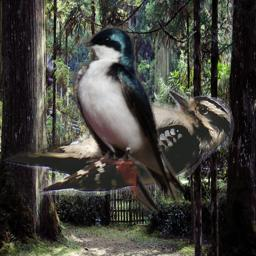Swallow: (71, 25, 185, 210)
Woodpecker: (0, 86, 246, 202)
